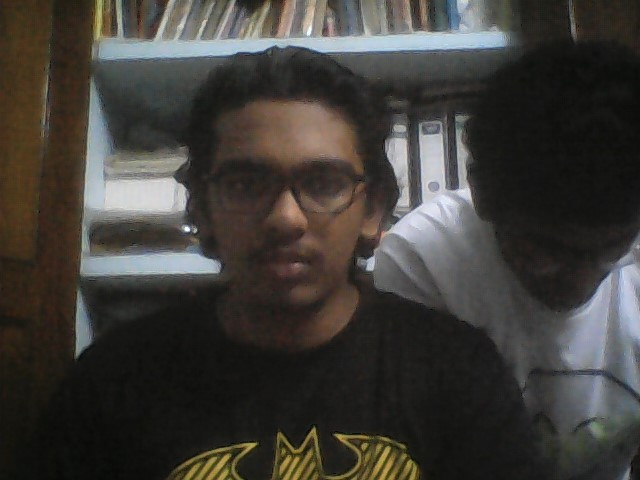person: (58, 48, 483, 480), (406, 39, 640, 400)
